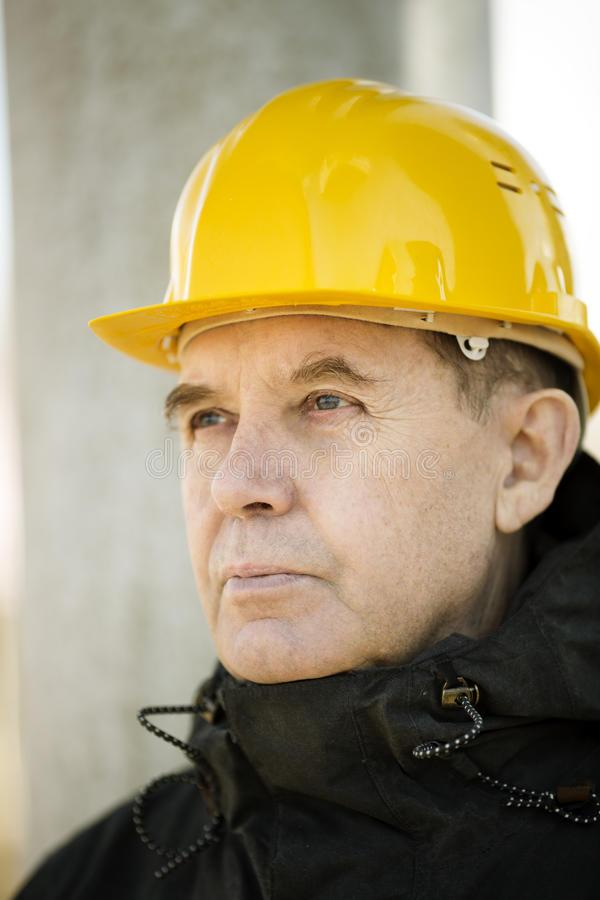helmet: (92, 75, 600, 421)
